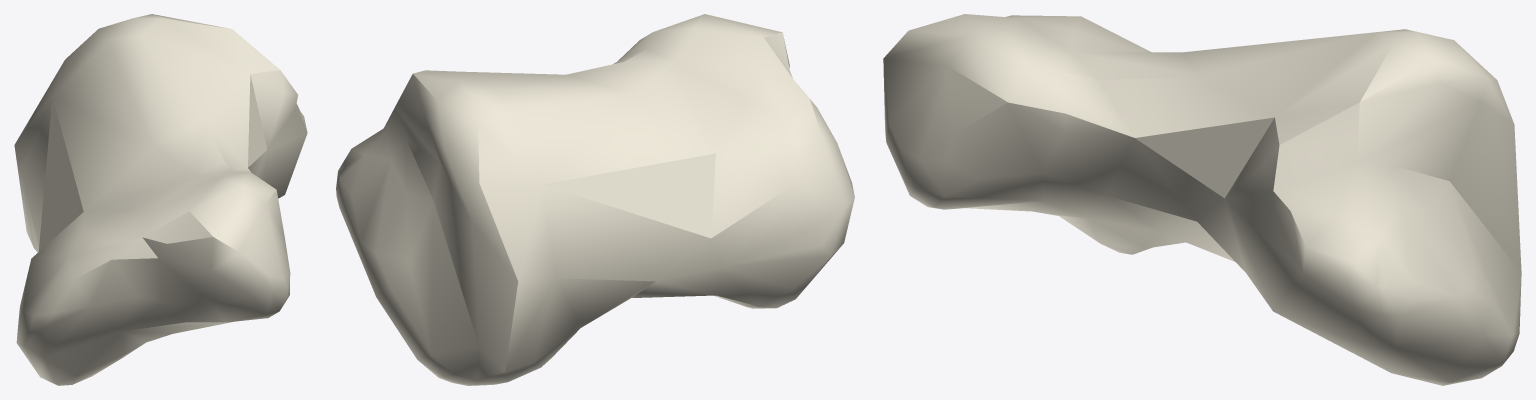
Rendered from fma32646_fj3302.glb.
The picture shows the model from 3 angles, left to right: view 1: azimuth 30°, elevation 25°; view 2: azimuth 150°, elevation 25°; view 3: azimuth 270°, elevation 25°; orthographic projection. The views are drawn at different scales.
Parts seen in each view (by area): view 1: FMA32646_FJ3302; view 2: FMA32646_FJ3302; view 3: FMA32646_FJ3302.
Boxes of the visible parts, left/top/right/bottom form: FMA32646_FJ3302: left=14, top=14, right=307, bottom=385; FMA32646_FJ3302: left=336, top=14, right=854, bottom=385; FMA32646_FJ3302: left=883, top=14, right=1521, bottom=385.
Size of the model in its own units: 0.0123 by 0.00795 by 0.0134.
